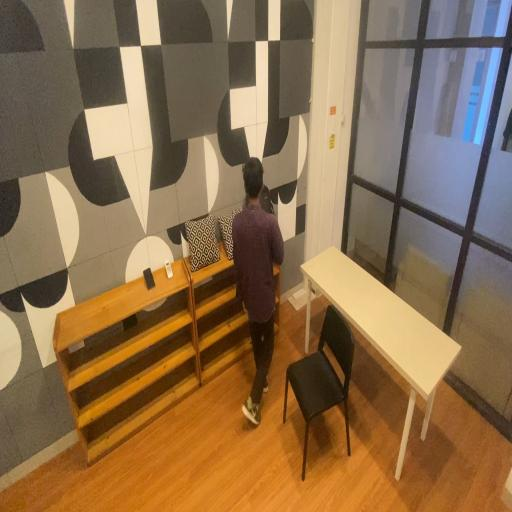bantal: (183, 210, 222, 274), (220, 204, 250, 262)
hp: (143, 264, 159, 296)
kursi: (284, 296, 356, 488)
lemari: (49, 250, 202, 472), (180, 207, 288, 384)
meja: (297, 239, 468, 497)
remote AC: (164, 257, 174, 282)
